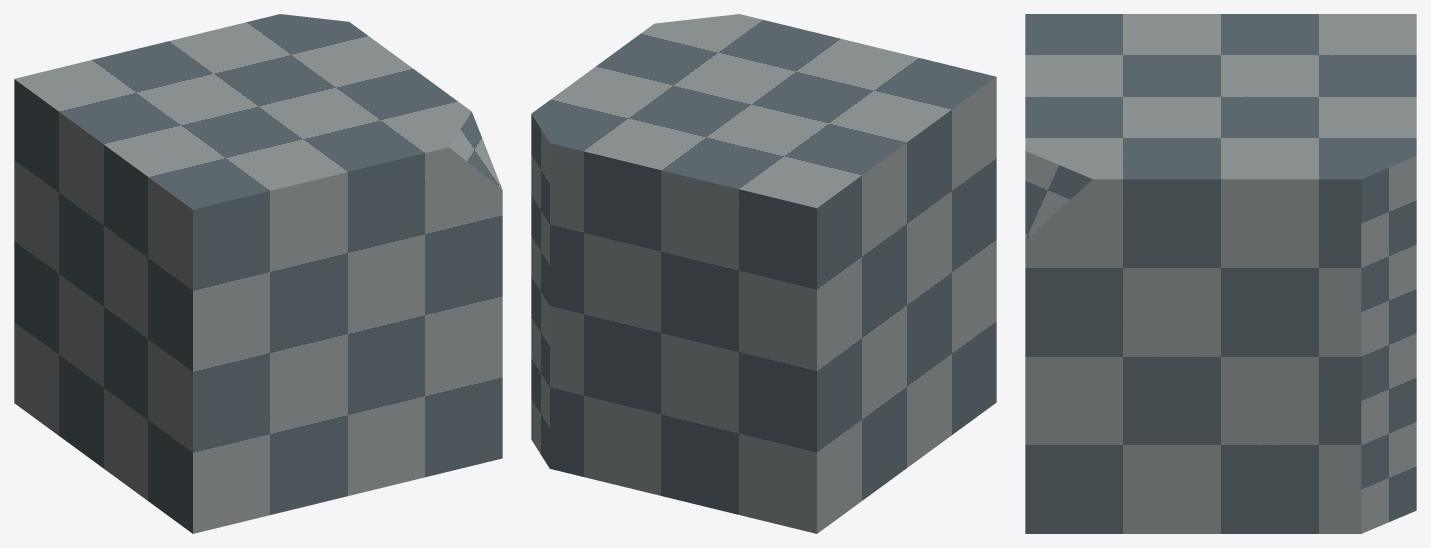
File: human-bevel-runtime.glb
The picture shows the model from 3 angles, left to right: view 1: azimuth 30°, elevation 25°; view 2: azimuth 150°, elevation 25°; view 3: azimuth 270°, elevation 25°; orthographic projection. The views are drawn at different scales.
Visible parts, largest first — view 1: box; view 2: box; view 3: box.
Boxes of the visible parts, x1,y1,x2,y2 form: box: (14, 14, 502, 533); box: (531, 14, 996, 533); box: (1025, 14, 1416, 533).
Size of the model in its own units: 2 by 2 by 2.
1 material, 1 textured.
